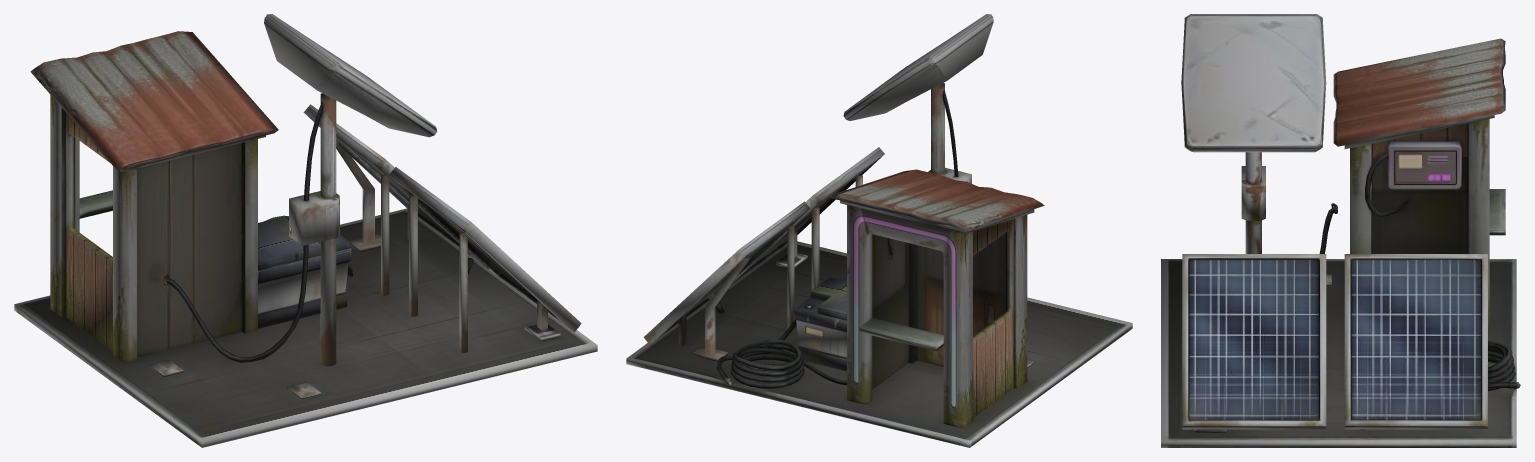
File: starlink_terminal.glb
3 views of the same model, side by side, from view 1: azimuth 30°, elevation 25°; view 2: azimuth 150°, elevation 25°; view 3: azimuth 270°, elevation 25° (orthographic). The views are drawn at different scales.
Visible parts, largest first — view 1: Body; view 2: Body; view 3: Body.
Boxes of the visible parts, bbox=[...] form: Body: bbox=[14, 14, 597, 447]; Body: bbox=[626, 14, 1132, 447]; Body: bbox=[1161, 14, 1520, 447].
Bounding box in the file's own units: 2.5 × 2.04 × 2.08.
Materials: 1 (1 with a texture image).
